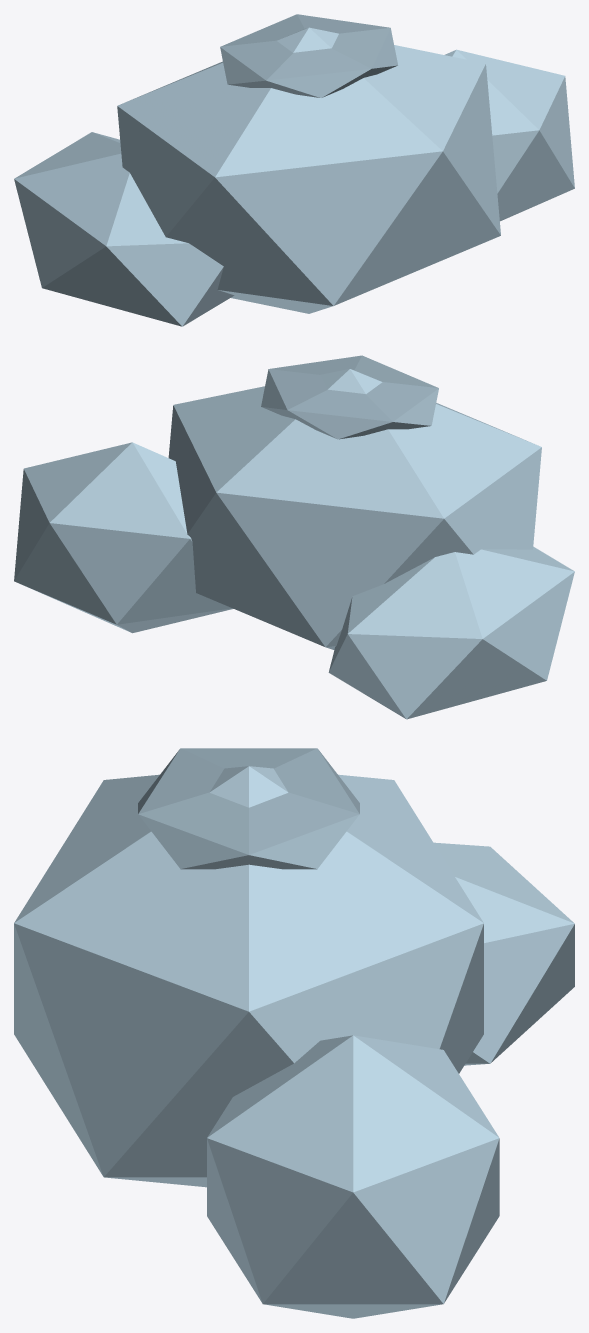
File: SH10_L06_SnowDrift.fbx
3 renders of one model, top to bottom at view 1: azimuth 30°, elevation 25°; view 2: azimuth 150°, elevation 25°; view 3: azimuth 270°, elevation 25°, orthographic. The views are drawn at different scales.
Parts seen in each view (by area): view 1: SH10_L06_SnowDrift; view 2: SH10_L06_SnowDrift; view 3: SH10_L06_SnowDrift.
Boxes of the visible parts, <box> form: SH10_L06_SnowDrift: <box>14,14,574,326</box>; SH10_L06_SnowDrift: <box>14,355,574,719</box>; SH10_L06_SnowDrift: <box>14,748,574,1318</box>.
Size of the model in its own units: 172 by 90 by 108.
